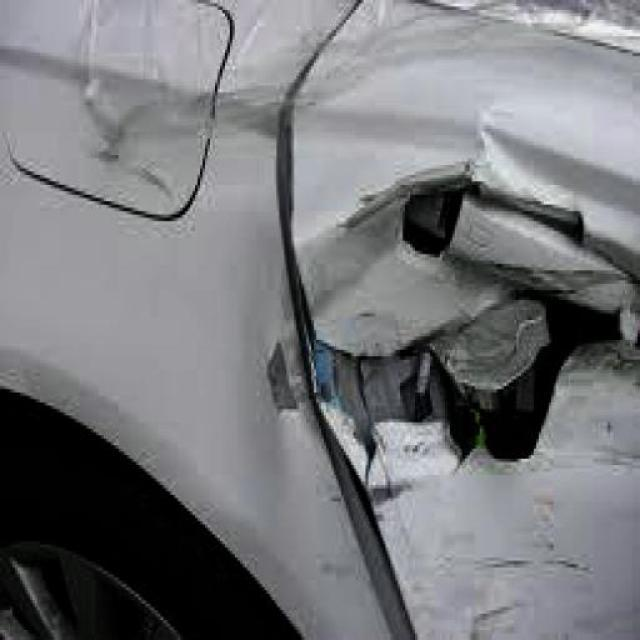car damage: (76, 0, 635, 517)
